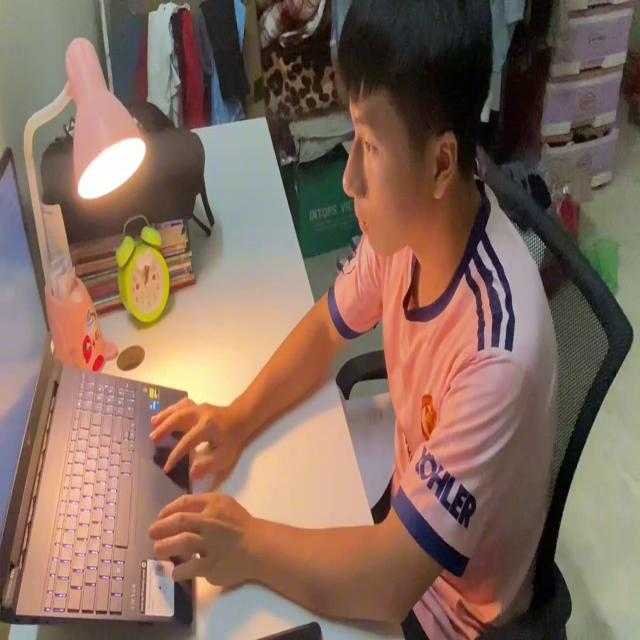book: (336, 382, 397, 509)
laptop: (1, 140, 196, 630)
student: (148, 0, 557, 631)
